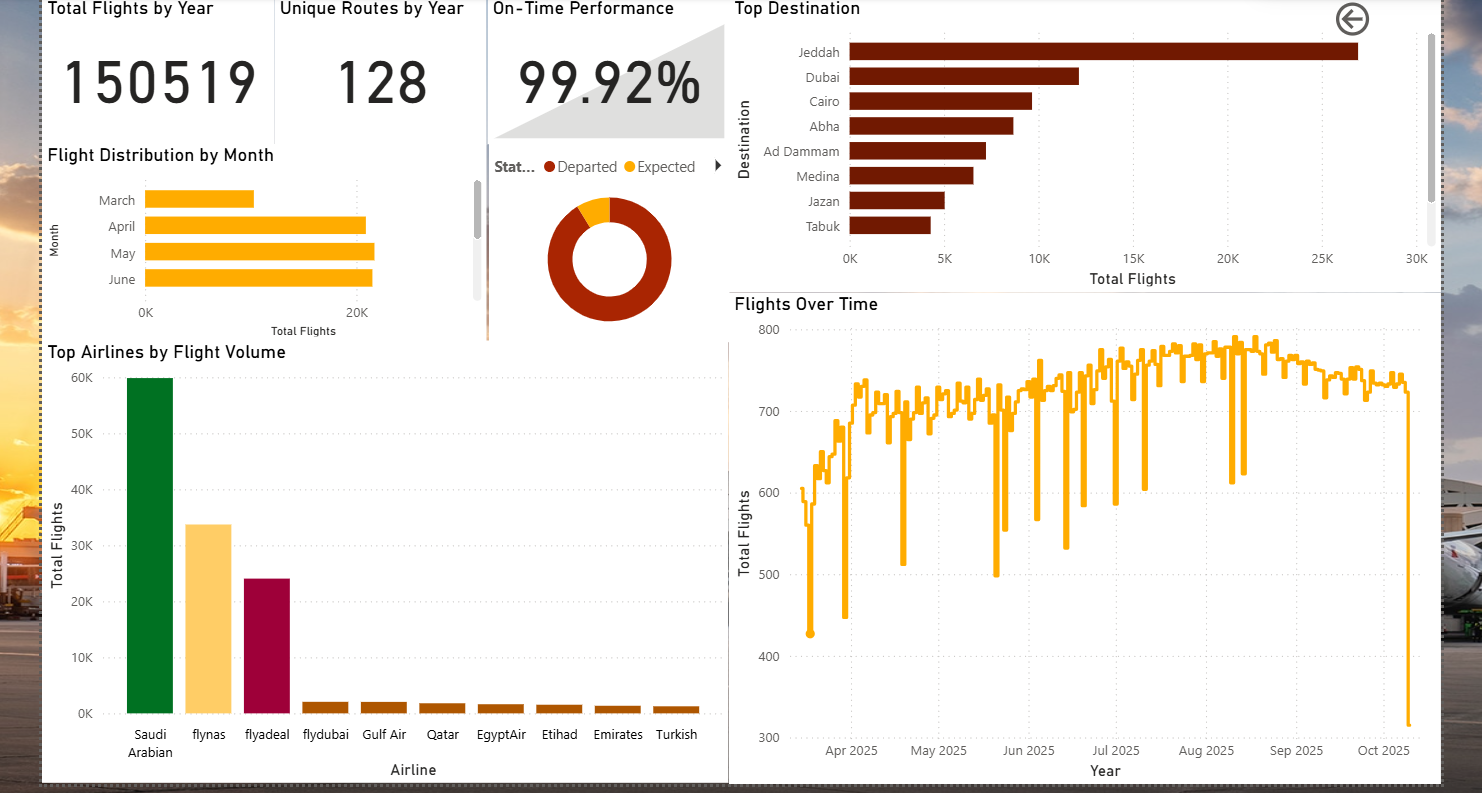

The page's visual inventory and layout, read from the dashboard file:
{"tool":"powerbi","page":{"name":"Page 1","canvas":[1280,720],"ordinal":1},"visuals":[{"type":"kpi","fields":{"Indicator":["Flights.Total Flights"],"TrendLine":["Flights.Flight Date.Variation.Date Hierarchy.Year"]},"box":[0,0,212.5,134.9],"z":0},{"type":"kpi","fields":{"Indicator":["Flights.Unique Routes"],"TrendLine":["Flights.Flight Date.Variation.Date Hierarchy.Year"]},"box":[212.5,0,193.9,134.9],"z":1000},{"type":"columnChart","title":"Top Airlines by Flight Volume","fields":{"Category":["Flights.Airline"],"Y":["Flights.Total Flights"]},"box":[0,314.8,628.1,404.8],"z":2000},{"type":"barChart","title":"Top Destination","fields":{"Y":["Flights.Total Flights"],"Category":["Flights.Destination"]},"box":[628.1,0,651.4,269.9],"z":3000},{"type":"kpi","title":"On-Time Performance","fields":{"TrendLine":["Flights.Status"],"Indicator":["Flights.Total Flights"]},"box":[407,0,222,134.4],"z":4000},{"type":"donutChart","fields":{"Category":["Flights.Status"],"Y":["Flights.Total Flights"]},"box":[408.9,134.4,220,181.1],"z":5000},{"type":"actionButton","box":[1179.3,0,100.3,40.3],"z":6000},{"type":"lineChart","title":"Flights Over Time","fields":{"Y":["Flights.Total Flights"],"Category":["Flights.Flight Date.Variation.Date Hierarchy.Year","Flights.Flight Date.Variation.Date Hierarchy.Quarter","Flights.Flight Date.Variation.Date Hierarchy.Month","Flights.Flight Date.Variation.Date Hierarchy.Day"]},"box":[628.1,269.9,651.4,449.8],"z":7000},{"type":"barChart","title":"Flight Distribution by Month","fields":{"Category":["Flights.Flight Date.Variation.Date Hierarchy.Month"],"Y":["Flights.Total Flights"]},"box":[0,134.4,407,181.1],"z":8000}]}

Visuals, with their boxes on the page's 1280x720 design canvas (x1, y1, x2, y2). These are canvas units, not pixel positions in the 1482x793 screenshot, which may show the page scaled, cropped or inside an application window:
kpi - Flights.Total Flights x Flights.Flight Date.Variation.Date Hierarchy.Year: locate(0, 0, 212, 135)
kpi - Flights.Unique Routes x Flights.Flight Date.Variation.Date Hierarchy.Year: locate(212, 0, 406, 135)
"Top Airlines by Flight Volume" columnChart: locate(0, 315, 628, 720)
"Top Destination" barChart: locate(628, 0, 1280, 270)
"On-Time Performance" kpi: locate(407, 0, 629, 134)
donutChart - Flights.Status x Flights.Total Flights: locate(409, 134, 629, 316)
actionButton: locate(1179, 0, 1280, 40)
"Flights Over Time" lineChart: locate(628, 270, 1280, 720)
"Flight Distribution by Month" barChart: locate(0, 134, 407, 316)
